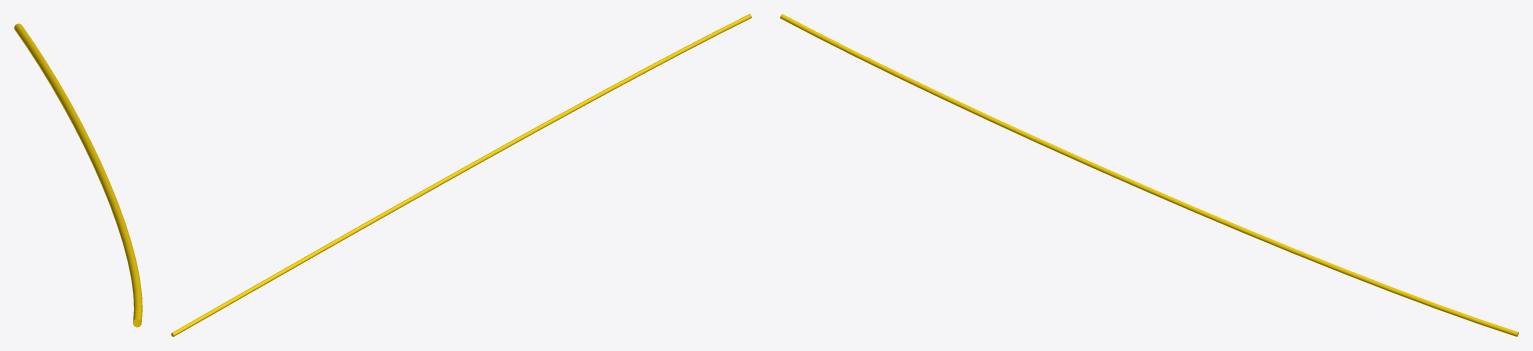
The model's file is Event_421278790_track_12.fbx.
The picture shows the model from 3 angles, left to right: view 1: azimuth 90°, elevation 25°; view 2: azimuth 210°, elevation 25°; view 3: azimuth 330°, elevation 25°; orthographic projection. The views are drawn at different scales.
Parts seen in each view (by area): view 1: Model; view 2: Model; view 3: Model.
Part boxes in pixels (x1,y1,x2,y2): Model: (14,23,142,327); Model: (171,14,751,336); Model: (780,14,1518,336).
Size of the model in its own units: 6.45 by 1.55 by 0.5887.
